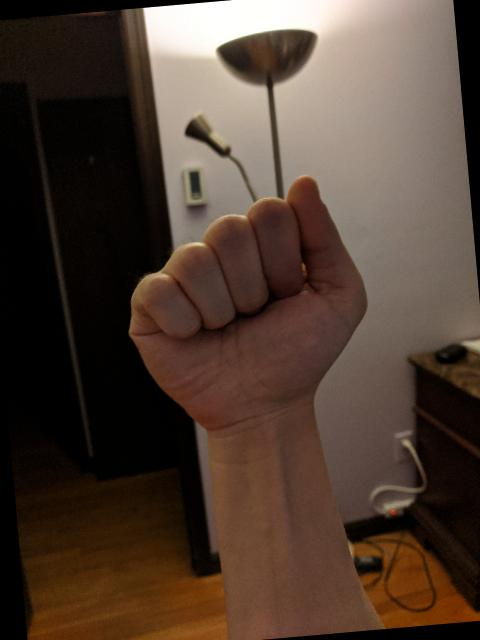A: (107, 164, 384, 448)
